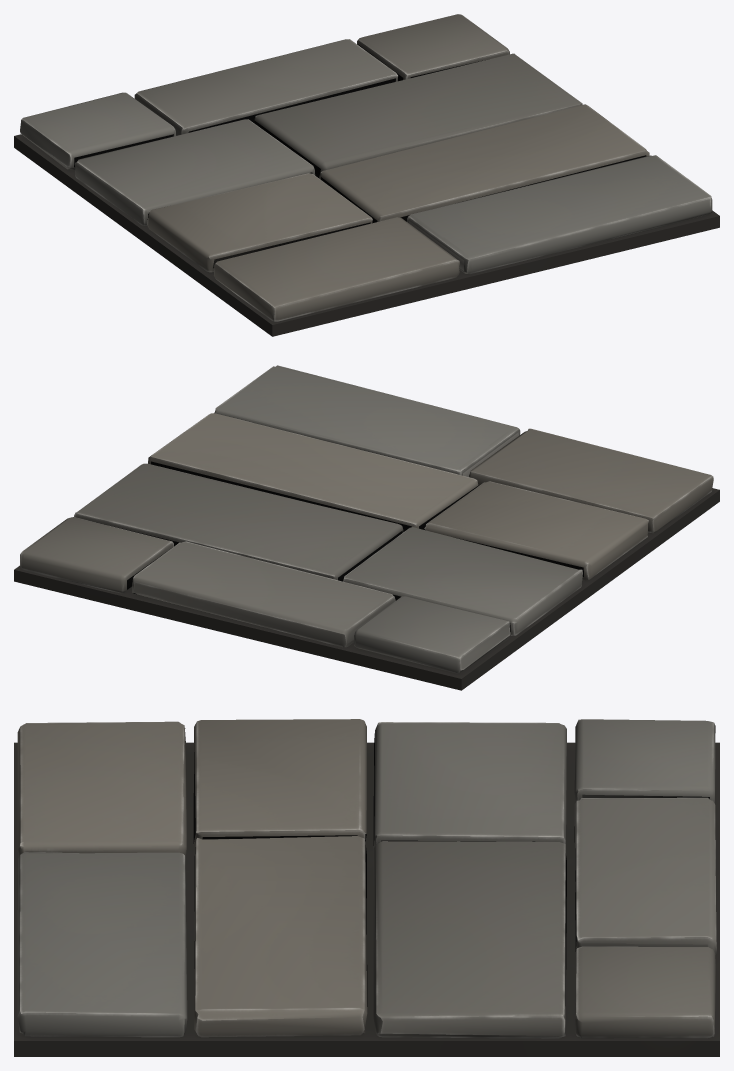
File: gallows_wall_walk.glb
3 renders of one model, top to bottom at view 1: azimuth 30°, elevation 25°; view 2: azimuth 150°, elevation 25°; view 3: azimuth 270°, elevation 25°, orthographic. The views are drawn at different scales.
Parts seen in each view (by area): view 1: gallows_wall_walk; view 2: gallows_wall_walk; view 3: gallows_wall_walk.
Boxes of the visible parts, x1,y1,x2,y2 form: gallows_wall_walk: [14, 14, 719, 336]; gallows_wall_walk: [14, 365, 719, 690]; gallows_wall_walk: [14, 719, 719, 1056].
Size of the model in its own units: 4 by 0.2768 by 4.
Materials: 1 (1 with a texture image).
